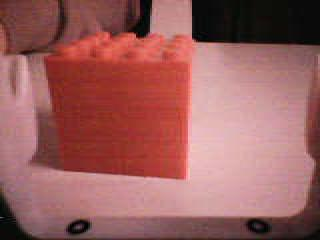legocube: (40, 31, 196, 185)
